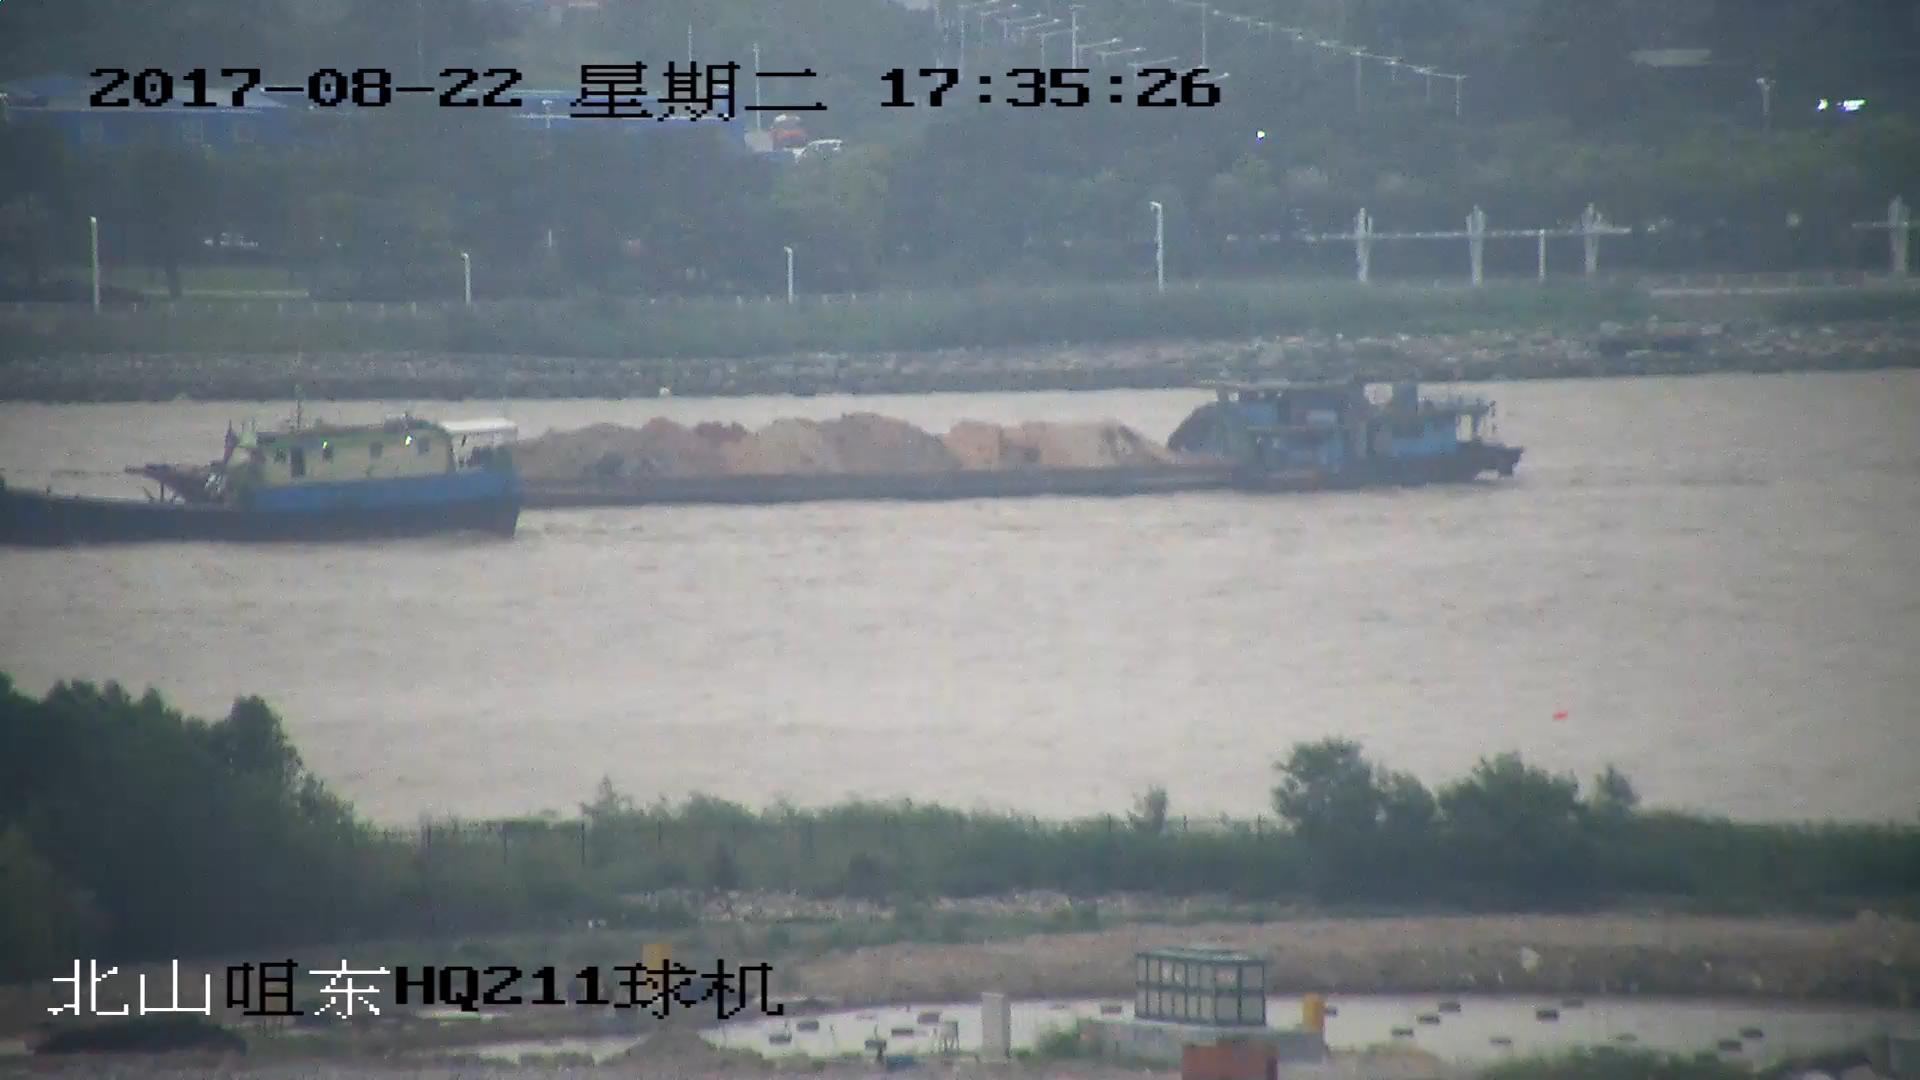Ship: (92, 368, 1524, 498), (3, 417, 531, 551)
